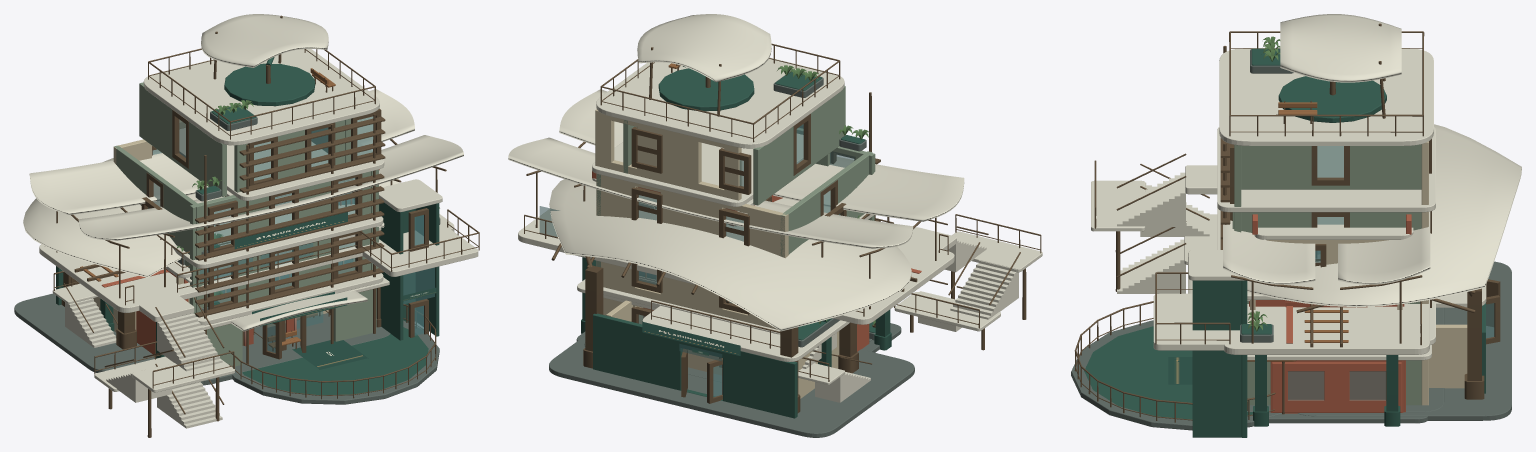
Rendered from transit-kingdom.glb.
The picture shows the model from 3 angles, left to right: view 1: azimuth 30°, elevation 25°; view 2: azimuth 150°, elevation 25°; view 3: azimuth 270°, elevation 25°; orthographic projection. The views are drawn at different scales.
Visible parts, largest first — view 1: B1 / concrete|walk|false (×4), B1 / concrete|solid|false (×3), B1 / bronze|solid|false (×3), B1 / sage|solid|false, B1 / forest|walk|false (×2), B1 / stone|walk|false (×2), Kenney / unified bronze|solid|true (×4), B1 / layered blue-green glass|glass|false (×3), B1 / forest|solid|false (×2), Original wayfinding / 01|solid|false, Original wayfinding / STASIUN ANTARA|solid|false, B1 / terracotta|solid|false (+3 smaller); view 2: B1 / concrete|solid|false (×3), B1 / concrete|walk|false (×3), B1 / plaster|solid|false (×2), B1 / forest|solid|false (×2), B1 / stone|walk|false, Kenney / unified bronze|solid|true (×2), B1 / sage|solid|false, B1 / bronze|solid|false (×3), B1 / forest|walk|false, B1 / layered blue-green glass|glass|false (×2), Kenney / unified forest|solid|true, Original wayfinding / PELABUHAN AWAN|solid|false (+1 smaller); view 3: B1 / concrete|walk|false (×3), B1 / concrete|solid|false (×3), B1 / sage|solid|false, B1 / stone|walk|false (×3), B1 / forest|walk|false (×2), B1 / bronze|solid|false (×3), B1 / forest|solid|false, B1 / terracotta|solid|false, Kenney / unified bronze|solid|true (×2), B1 / plaster|solid|false (×3), B1 / layered blue-green glass|glass|false (×2), Kenney / unified forest|solid|true (+2 smaller).
Boxes of the visible parts, x1=… form: B1 / concrete|walk|false (×4): x1=39, y1=49, x2=478, y2=428; B1 / concrete|solid|false (×3): x1=23, y1=14, x2=463, y2=331; B1 / bronze|solid|false (×3): x1=53, y1=15, x2=479, y2=437; B1 / sage|solid|false: x1=114, y1=82, x2=379, y2=366; B1 / forest|walk|false (×2): x1=224, y1=63, x2=428, y2=395; B1 / stone|walk|false (×2): x1=14, y1=293, x2=439, y2=404; Kenney / unified bronze|solid|true (×4): x1=61, y1=108, x2=428, y2=359; B1 / layered blue-green glass|glass|false (×3): x1=148, y1=116, x2=434, y2=352; B1 / forest|solid|false (×2): x1=197, y1=57, x2=439, y2=340; Original wayfinding / 01|solid|false: x1=292, y1=340, x2=367, y2=369; Original wayfinding / STASIUN ANTARA|solid|false: x1=234, y1=212, x2=347, y2=249; B1 / terracotta|solid|false: x1=136, y1=169, x2=379, y2=354; B1 / concrete|solid|false (×3): x1=508, y1=14, x2=964, y2=331; B1 / concrete|walk|false (×3): x1=518, y1=57, x2=1042, y2=402; B1 / plaster|solid|false (×2): x1=595, y1=109, x2=839, y2=398; B1 / forest|solid|false (×2): x1=593, y1=66, x2=864, y2=418; B1 / stone|walk|false: x1=549, y1=336, x2=914, y2=437; Kenney / unified bronze|solid|true (×2): x1=583, y1=114, x2=858, y2=413; B1 / sage|solid|false: x1=596, y1=86, x2=875, y2=267; B1 / bronze|solid|false (×3): x1=524, y1=43, x2=1041, y2=381; B1 / forest|walk|false: x1=658, y1=68, x2=754, y2=111; B1 / layered blue-green glass|glass|false (×2): x1=638, y1=124, x2=855, y2=396; Kenney / unified forest|solid|true: x1=581, y1=257, x2=891, y2=367; Original wayfinding / PELABUHAN AWAN|solid|false: x1=642, y1=321, x2=740, y2=356; B1 / concrete|walk|false (×3): x1=1091, y1=48, x2=1435, y2=360; B1 / concrete|solid|false (×3): x1=1188, y1=14, x2=1521, y2=307; B1 / sage|solid|false: x1=1232, y1=144, x2=1421, y2=405; B1 / stone|walk|false (×3): x1=1071, y1=261, x2=1511, y2=430; B1 / forest|walk|false (×2): x1=1084, y1=76, x2=1386, y2=419; B1 / bronze|solid|false (×3): x1=1074, y1=23, x2=1475, y2=422; B1 / forest|solid|false: x1=1192, y1=280, x2=1271, y2=437; B1 / terracotta|solid|false: x1=1249, y1=214, x2=1411, y2=413; Kenney / unified bronze|solid|true (×2): x1=1230, y1=139, x2=1500, y2=399; B1 / plaster|solid|false (×3): x1=1250, y1=141, x2=1467, y2=405; B1 / layered blue-green glass|glass|false (×2): x1=1288, y1=146, x2=1385, y2=400; Kenney / unified forest|solid|true: x1=1253, y1=355, x2=1400, y2=426.
Bounding box in the file's own units: 24.97 × 18.23 × 21.94.
Materials: 24 (12 with a texture image).
